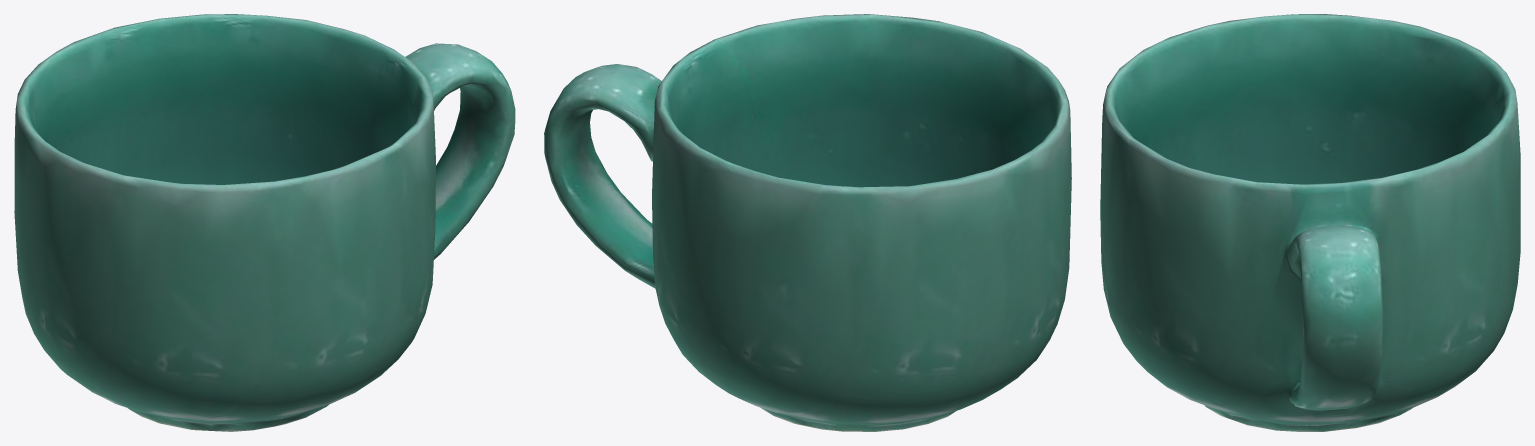
The model's file is mug-blue.glb.
The picture shows the model from 3 angles, left to right: view 1: azimuth 30°, elevation 25°; view 2: azimuth 150°, elevation 25°; view 3: azimuth 270°, elevation 25°; orthographic projection.
Parts seen in each view (by area): view 1: model; view 2: model; view 3: model.
Part boxes in pixels (x1,y1,x2,y2): model: [14, 14, 515, 431]; model: [544, 14, 1071, 431]; model: [1100, 14, 1520, 431].
Bounding box in the file's own units: 0.1657 × 0.0948 × 0.1254.
Materials: 1 (1 with a texture image).
